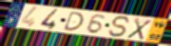4: (19, 5, 39, 29), (39, 8, 59, 31)
6: (85, 13, 106, 35)
D: (62, 11, 84, 32)
S: (107, 15, 133, 38)
X: (125, 17, 153, 41)
